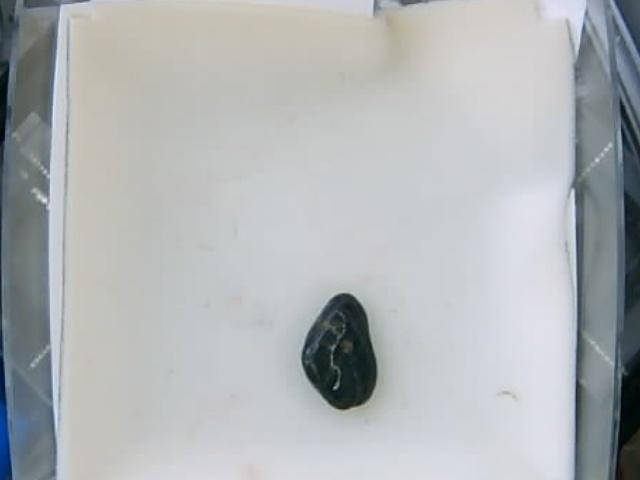Pebble: (303, 292, 378, 411)
